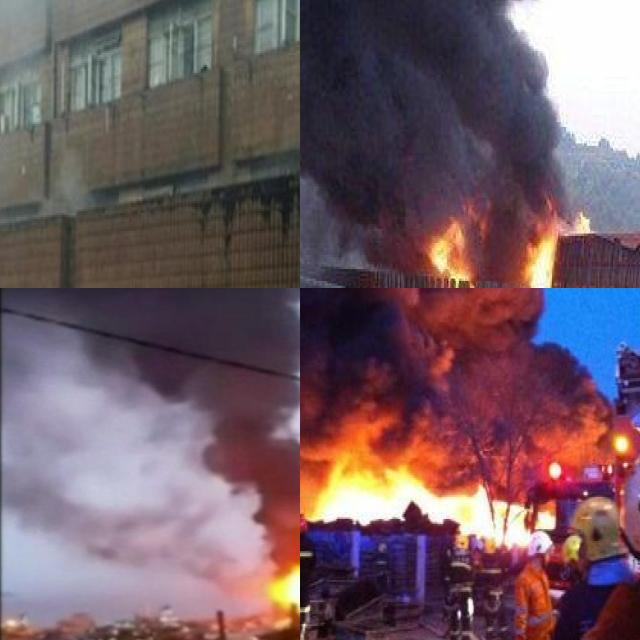fire: (306, 441, 554, 548), (427, 200, 479, 288), (262, 531, 300, 624), (518, 214, 558, 288)
smoke: (15, 288, 300, 526), (300, 288, 611, 475), (300, 0, 559, 221), (0, 0, 135, 168)
